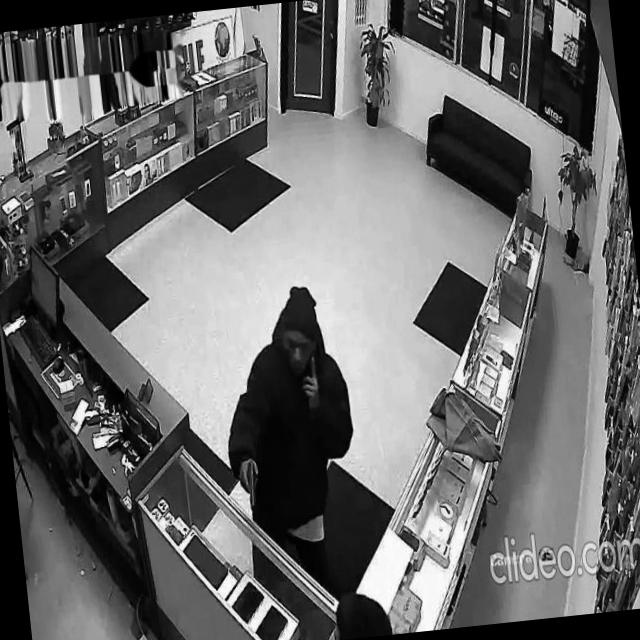gun: (242, 454, 260, 512)
person with a gun: (210, 276, 372, 612)
